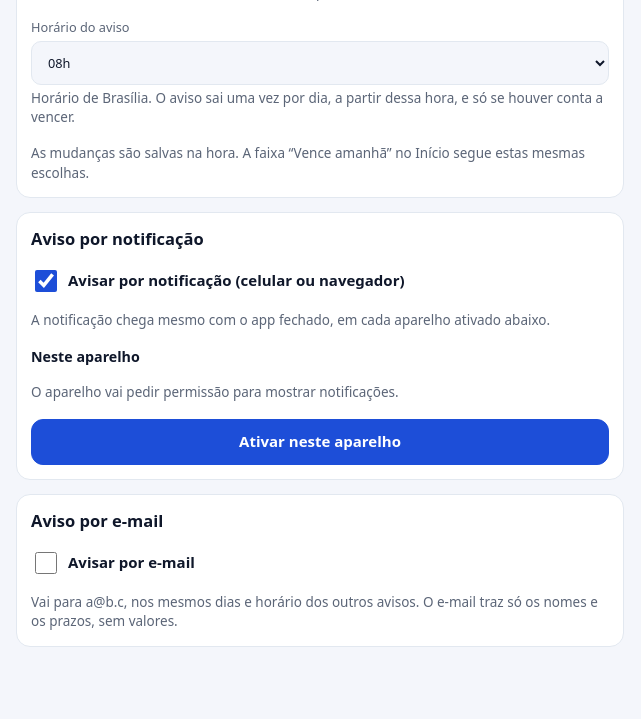
Test case: Tela Alertas de vencimento: este aparelho › ativar: pede permissão, inscreve o aparelho e grava
(page scrolled)
Click the button "Ativar neste aparelho" at (320, 442), box [31, 419, 609, 465]
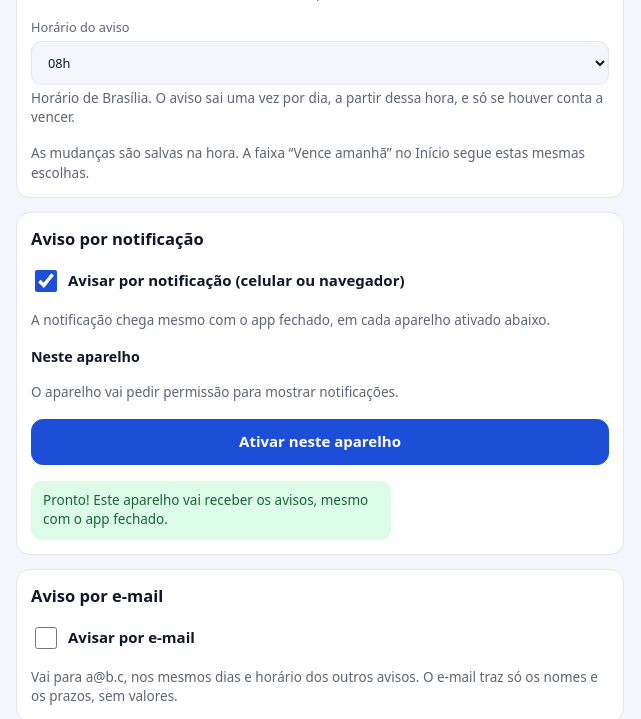
Now the message shows "Este aparelho vai receber os avisos", box [43, 491, 368, 528]
